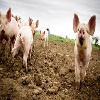heo: (68, 12, 100, 60), (11, 18, 33, 72), (1, 7, 13, 41), (38, 27, 50, 49), (28, 14, 40, 36)
